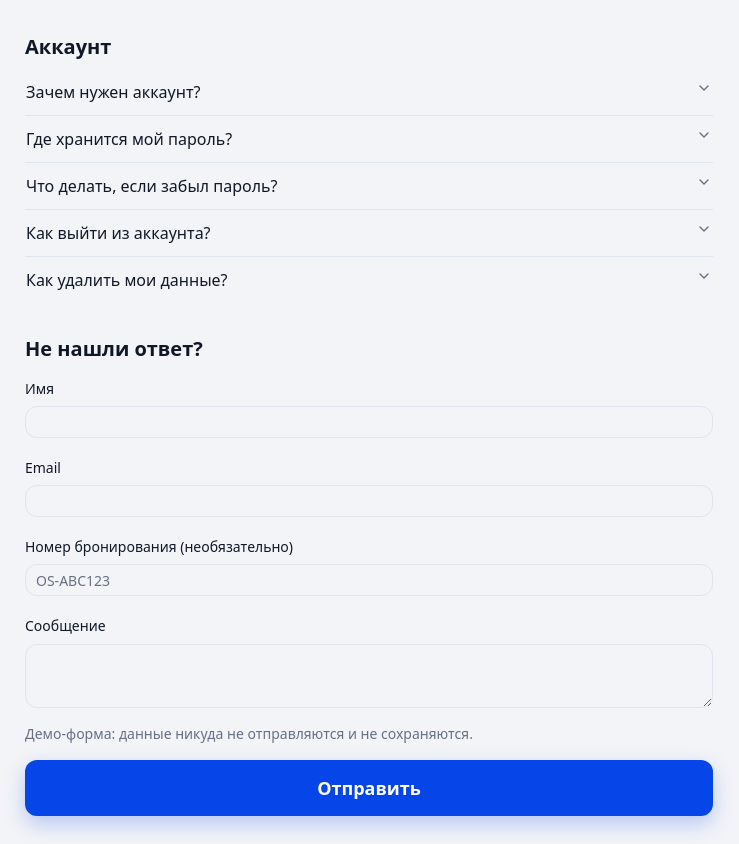
it: support form › shows errors for the required fields and keeps the booking number optional
This screenshot has width=739, height=844.
(page scrolled)
Click the button "Отправить" at (369, 788), box [25,760,713,816]
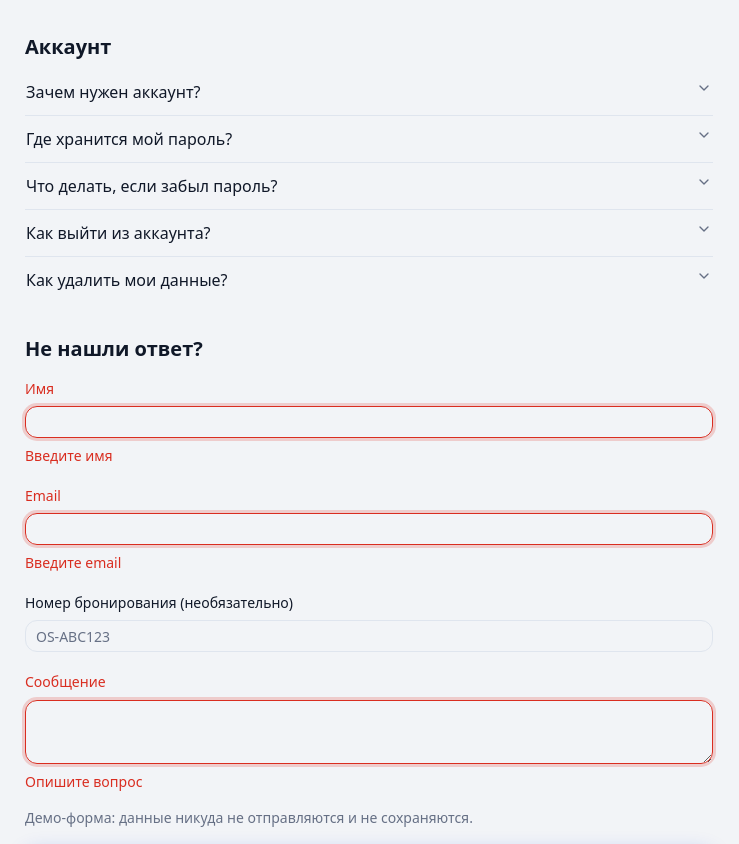
Check: the text "Введите имя" is shown, box [25,446,112,465]
Check: the text "Введите email" is shown, box [25,553,121,572]
Check: the text "Опишите вопрос" is shown, box [25,772,142,790]
